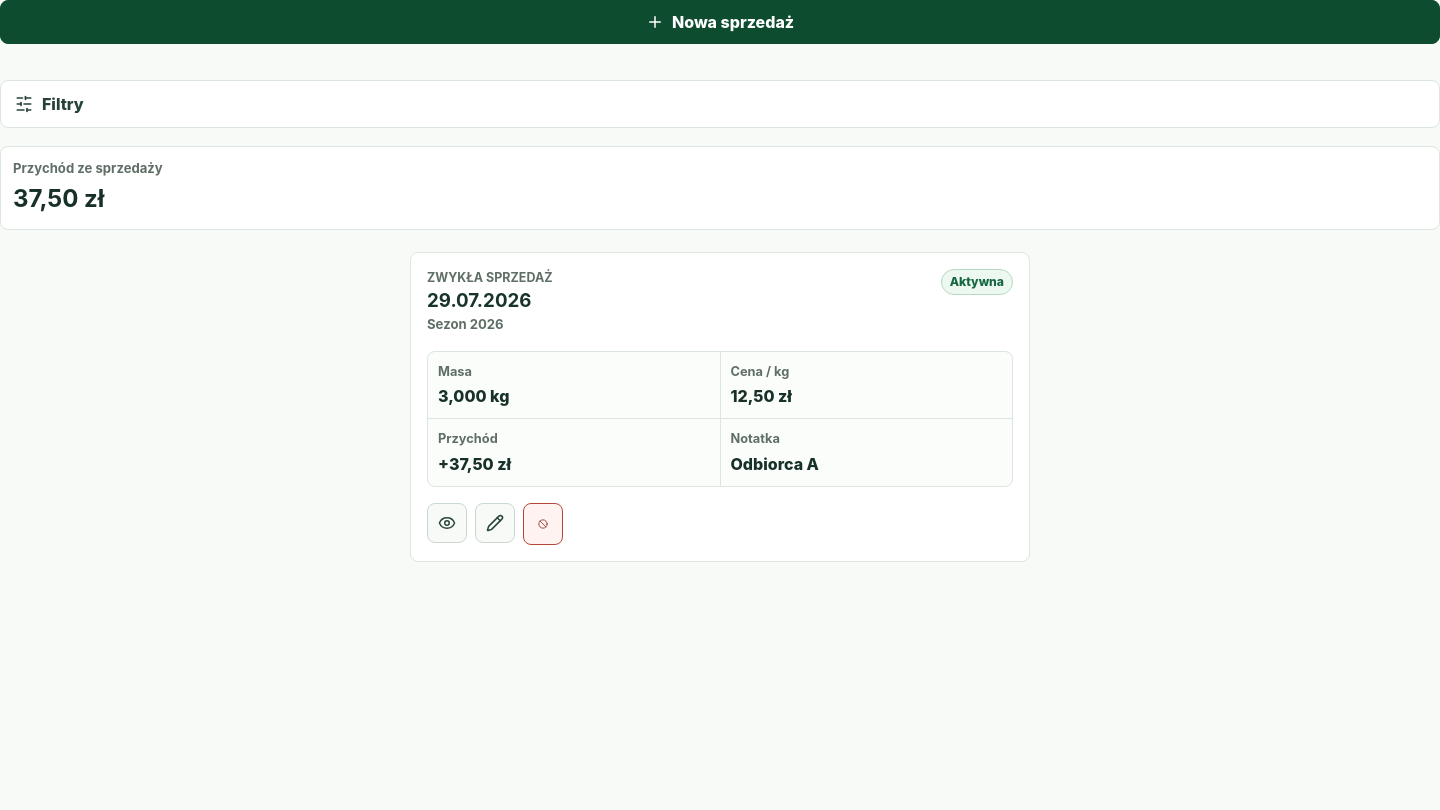
Scenario: AdminOrdinarySalesPanel › opens the selected active history item in the cancellation workflow
Click the button named "Anuluj sprzedaż z 29.07.2026" at (543, 524), box x1=523 y1=502 x2=563 y2=544
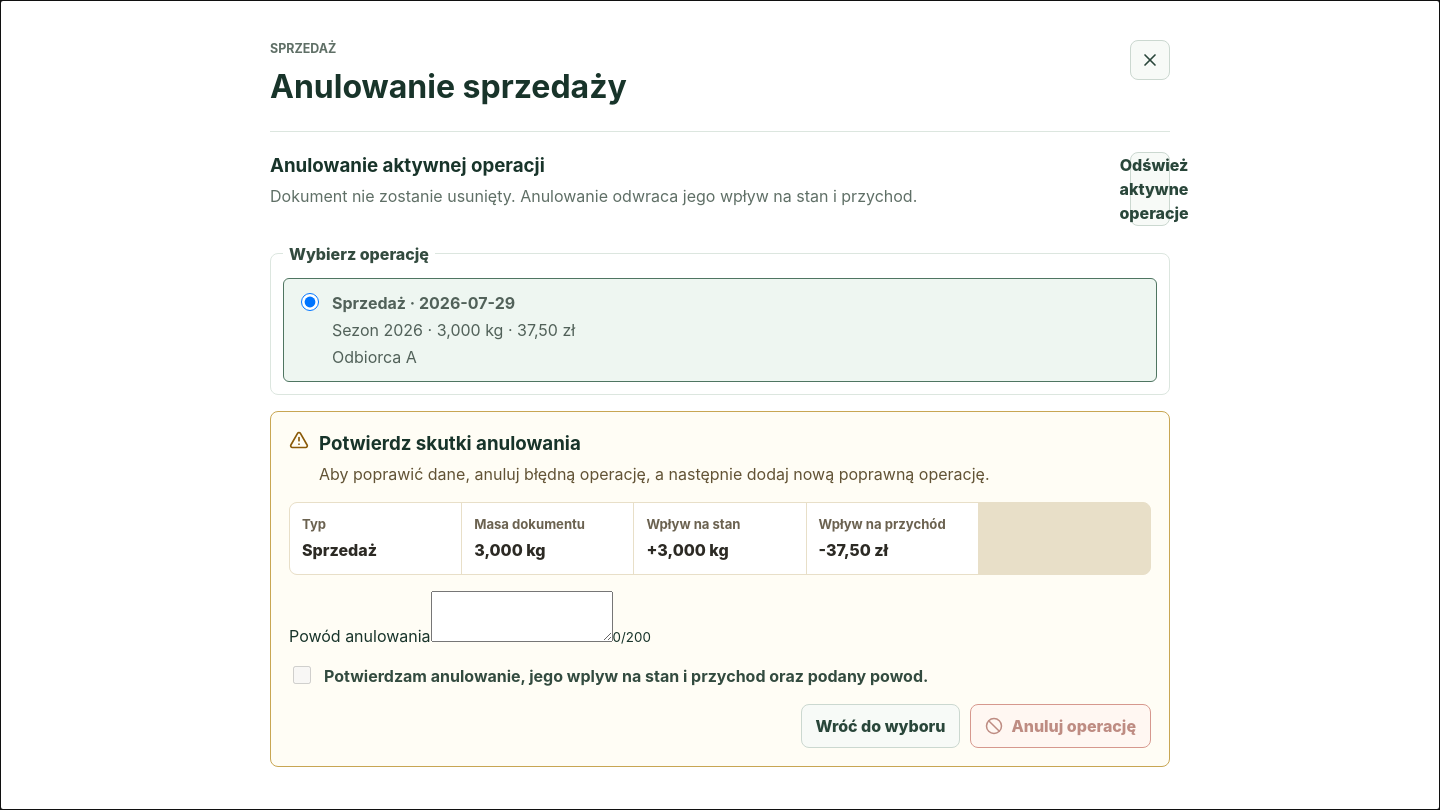
Check: the radio button is checked, box x1=301 y1=293 x2=319 y2=311
